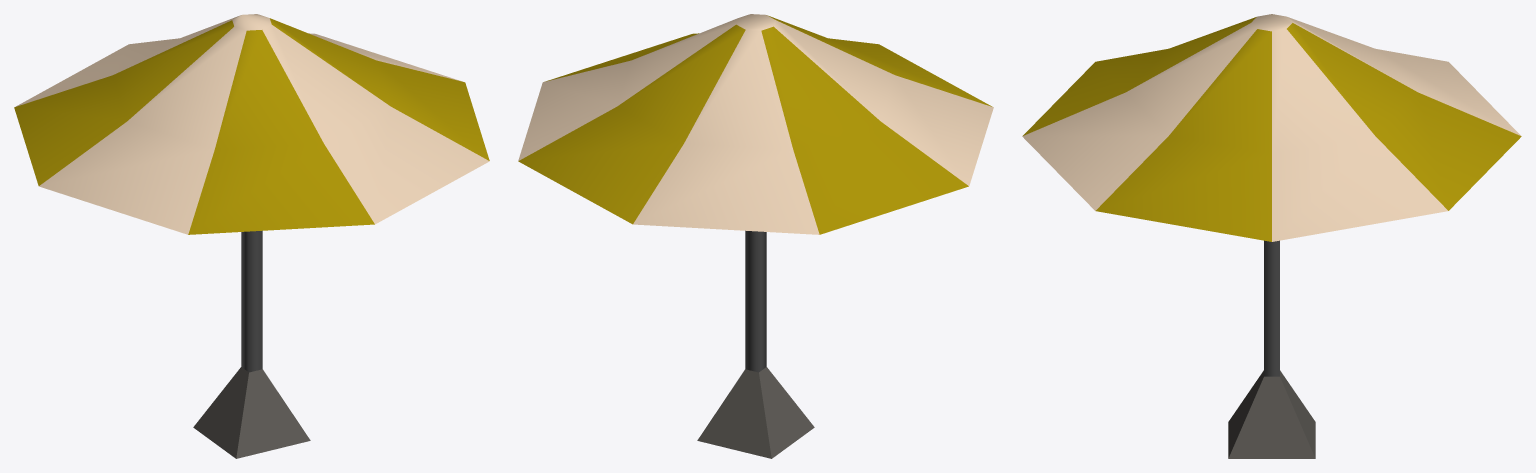
The model's file is Umbrella_A1.fbx.
The picture shows the model from 3 angles, left to right: view 1: azimuth 30°, elevation 25°; view 2: azimuth 150°, elevation 25°; view 3: azimuth 270°, elevation 25°; orthographic projection.
Visible parts, largest first — view 1: Umbrella_A1; view 2: Umbrella_A1; view 3: Umbrella_A1.
Part boxes in pixels (x1,y1,x2,y2): Umbrella_A1: (14,14,489,458); Umbrella_A1: (518,14,993,458); Umbrella_A1: (1022,14,1521,458).
Size of the model in its own units: 293 by 270 by 293.
1 material, 1 textured.
